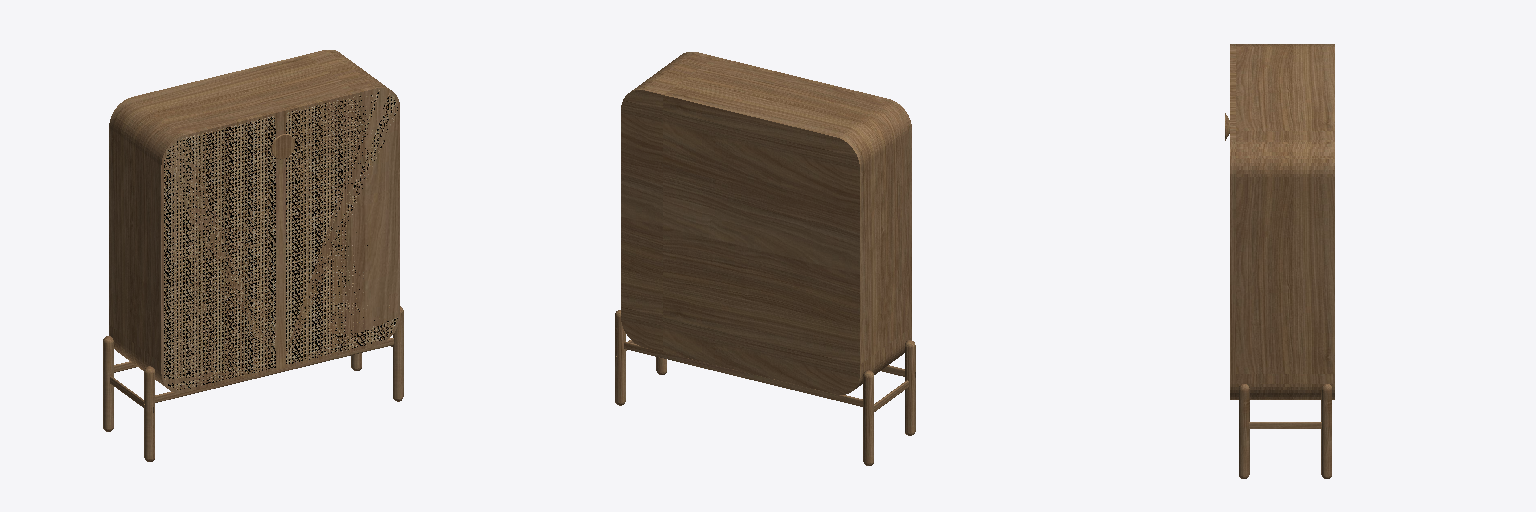
The picture shows the model from 3 angles: view 1: azimuth 30°, elevation 25°; view 2: azimuth 150°, elevation 25°; view 3: azimuth 270°, elevation 25°; orthographic projection.
Parts seen in each view (by area): view 1: Mesh5 Group3 Group1 Model, Mesh16 Group10 Group_15_2 Group1 Model, Mesh14 Group9 Group_15_1 Group1 Model, Mesh17 Group11 Group_15_2 Group1 Model, Mesh13 Group8 Group_15_1 Group1 Model, Mesh1 Group_2_1 Group2 Group1 Model, Mesh4 Group_2_4 Group2 Group1 Model, Mesh8 Group_6_1 Group4 Group1 Model, Mesh2 Group_2_2 Group2 Group1 Model; view 2: Mesh5 Group3 Group1 Model, Mesh9 Group_6_2 Group4 Group1 Model, Mesh4 Group_2_4 Group2 Group1 Model, Mesh17 Group11 Group_15_2 Group1 Model, Mesh1 Group_2_1 Group2 Group1 Model, Mesh3 Group_2_3 Group2 Group1 Model; view 3: Mesh5 Group3 Group1 Model, Mesh14 Group9 Group_15_1 Group1 Model, Mesh2 Group_2_2 Group2 Group1 Model, Mesh3 Group_2_3 Group2 Group1 Model.
Part boxes in pixels (x1,y1,x2,y2): Mesh5 Group3 Group1 Model: (109,50,385,385); Mesh16 Group10 Group_15_2 Group1 Model: (164,116,275,390); Mesh14 Group9 Group_15_1 Group1 Model: (279,86,399,368); Mesh17 Group11 Group_15_2 Group1 Model: (159,110,280,392); Mesh13 Group8 Group_15_1 Group1 Model: (286,90,397,364); Mesh1 Group_2_1 Group2 Group1 Model: (144,366,154,461); Mesh4 Group_2_4 Group2 Group1 Model: (103,336,113,431); Mesh8 Group_6_1 Group4 Group1 Model: (144,338,393,404); Mesh2 Group_2_2 Group2 Group1 Model: (393,306,403,401); Mesh5 Group3 Group1 Model: (621,54,908,394); Mesh9 Group_6_2 Group4 Group1 Model: (624,341,862,406); Mesh4 Group_2_4 Group2 Group1 Model: (863,370,873,465); Mesh17 Group11 Group_15_2 Group1 Model: (790,76,911,339); Mesh1 Group_2_1 Group2 Group1 Model: (905,340,915,435); Mesh3 Group_2_3 Group2 Group1 Model: (615,310,625,405); Mesh5 Group3 Group1 Model: (1236,44,1334,399); Mesh14 Group9 Group_15_1 Group1 Model: (1230,94,1235,399); Mesh2 Group_2_2 Group2 Group1 Model: (1239,384,1249,478); Mesh3 Group_2_3 Group2 Group1 Model: (1321,384,1331,478).
Size of the model in its own units: 108 by 130 by 40.
4 materials, 3 textured.